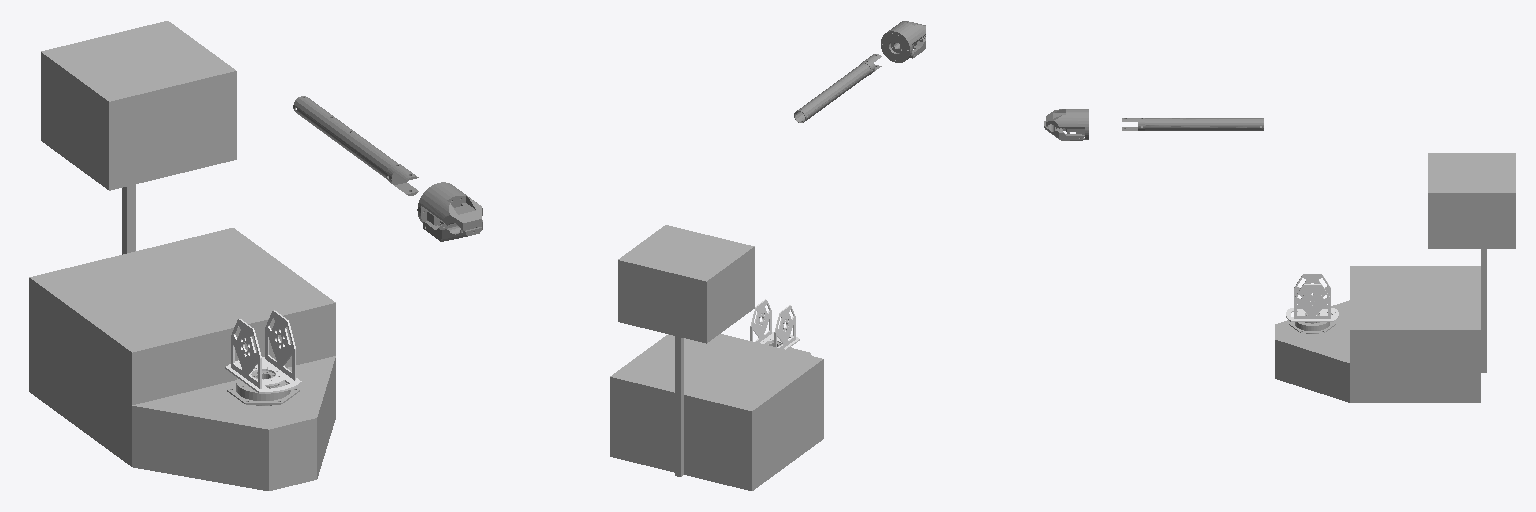
robot.urdf — urc23final_arm:
<?xml version="1.0" encoding="utf-8" ?>
<!-- This URDF was automatically created by SolidWorks to URDF Exporter! Originally created by [author] ([email redacted]) 
     Commit Version: 1.6.0-4-g7f85cfe  Build Version: 1.6.7995.38578
     For more information, please see http://wiki.ros.org/sw_urdf_exporter -->
<robot name="urc23final_arm">
    <link name="base_link">
        <inertial>
            <origin xyz="0.0603246661212797 0.217515542424428 0.127534424617061" rpy="0 0 0" />
            <mass value="79.0617361629743" />
            <inertia ixx="5.82614585947853" ixy="1.70560439059488E-16" ixz="-4.09098676431373E-16" iyy="4.66673961070968" iyz="-1.60173723183888" izz="3.60534040101563" />
        </inertial>
        <visual>
            <origin xyz="0 0 0" rpy="0 0 0" />
            <geometry>
                <mesh filename="package://urc23final_arm/meshes/base_link.STL" />
            </geometry>
            <material name="">
                <color rgba="0.752941176470588 0.752941176470588 0.752941176470588 1" />
            </material>
        </visual>
        <collision>
            <origin xyz="0 0 0" rpy="0 0 0" />
            <geometry>
                <mesh filename="package://urc23final_arm/meshes/base_link.STL" />
            </geometry>
        </collision>
    </link>
    <link name="base_rotation">
        <inertial>
            <origin xyz="-4.09394740330526E-15 0.0477688408231929 -0.00156120213569086" rpy="0 0 0" />
            <mass value="0.12637311705397" />
            <inertia ixx="0.000285010578626874" ixy="5.37348364974634E-22" ixz="-1.51854154192275E-20" iyy="0.000242437755857635" iyz="7.36564926068934E-14" izz="0.000138412184731081" />
        </inertial>
        <visual>
            <origin xyz="0 0 0" rpy="0 0 0" />
            <geometry>
                <mesh filename="package://urc23final_arm/meshes/base_rotation.STL" />
            </geometry>
            <material name="">
                <color rgba="0.96078431372549 0.96078431372549 0.964705882352941 1" />
            </material>
        </visual>
        <collision>
            <origin xyz="0 0 0" rpy="0 0 0" />
            <geometry>
                <mesh filename="package://urc23final_arm/meshes/base_rotation.STL" />
            </geometry>
        </collision>
    </link>
    <joint name="base_rotation_joint" type="revolute">
        <origin xyz="0.060325 -0.11137 0.093049" rpy="1.5708 0 0" />
        <parent link="base_link" />
        <child link="base_rotation" />
        <axis xyz="0 -1 0" />
        <limit lower="-1.57" upper="1.57" effort="20" velocity="1" />
    </joint>
    <link name="shoulder">
        <inertial>
            <origin xyz="1.36696209906972E-15 0.229734002557454 -0.0188983810765576" rpy="0 0 0" />
            <mass value="1.56729214697193" />
            <inertia ixx="0.0134535222438073" ixy="2.35924360277525E-16" ixz="-1.60404400799312E-17" iyy="0.00182033898741546" iyz="0.000702998589090253" izz="0.0124179951223639" />
        </inertial>
        <visual>
            <origin xyz="0 0 0" rpy="0 0 0" />
            <geometry>
                <mesh filename="package://urc23final_arm/meshes/shoulder.STL" />
            </geometry>
            <material name="">
                <color rgba="0.752941176470588 0.752941176470588 0.752941176470588 1" />
            </material>
        </visual>
        <collision>
            <origin xyz="0 0 0" rpy="0 0 0" />
            <geometry>
                <mesh filename="package://urc23final_arm/meshes/shoulder.STL" />
            </geometry>
        </collision>
    </link>
    <joint name="shoulder_rotation" type="revolute">
        <origin xyz="0 0.085 0" rpy="3.1416 0 3.1416" />
        <parent link="base_rotation" />
        <child link="shoulder" />
        <axis xyz="-1 0 0" />
        <limit lower="-1.57" upper="1.57" effort="20" velocity="1" />
    </joint>
    <link name="elbow">
        <inertial>
            <origin xyz="-9.22970098266029E-09 0.0535648381784446 0.000234961157169367" rpy="0 0 0" />
            <mass value="0.254176145162905" />
            <inertia ixx="0.000674443953170071" ixy="3.31994866744267E-11" ixz="3.01193310138557E-09" iyy="0.000207211717182606" iyz="1.29972885076442E-06" izz="0.000654879861706942" />
        </inertial>
        <visual>
            <origin xyz="0 0 0" rpy="0 0 0" />
            <geometry>
                <mesh filename="package://urc23final_arm/meshes/elbow.STL" />
            </geometry>
            <material name="">
                <color rgba="0.752941176470588 0.752941176470588 0.752941176470588 1" />
            </material>
        </visual>
        <collision>
            <origin xyz="0 0 0" rpy="0 0 0" />
            <geometry>
                <mesh filename="package://urc23final_arm/meshes/elbow.STL" />
            </geometry>
        </collision>
    </link>
    <joint name="elbow_rotation" type="revolute">
        <origin xyz="0 0.59743 -0.055422" rpy="-1.5708 0 0" />
        <parent link="shoulder" />
        <child link="elbow" />
        <axis xyz="-1 0 0" />
        <limit lower="-1.57" upper="1.57" effort="20" velocity="1" />
    </joint>
    <link name="elbow_link">
        <inertial>
            <origin xyz="0.244488163167704 -3.49133739002694E-08 -7.02941262975543E-08" rpy="0 0 0" />
            <mass value="0.119802792600848" />
            <inertia ixx="4.28029579106562E-05" ixy="-1.3695670601466E-10" ixz="-4.95481348866479E-11" iyy="0.00128323794233793" iyz="1.71267929875785E-10" izz="0.00127976361585783" />
        </inertial>
        <visual>
            <origin xyz="0 0 0" rpy="0 0 0" />
            <geometry>
                <mesh filename="package://urc23final_arm/meshes/elbow_link.STL" />
            </geometry>
            <material name="">
                <color rgba="0.627450980392157 0.627450980392157 0.627450980392157 1" />
            </material>
        </visual>
        <collision>
            <origin xyz="0 0 0" rpy="0 0 0" />
            <geometry>
                <mesh filename="package://urc23final_arm/meshes/elbow_link.STL" />
            </geometry>
        </collision>
    </link>
    <joint name="arm_rotation" type="revolute">
        <origin xyz="0 0.099935 0" rpy="0 0 1.5708" />
        <parent link="elbow" />
        <child link="elbow_link" />
        <axis xyz="-1 0 0" />
        <limit lower="-1.57" upper="1.57" effort="20" velocity="1" />
    </joint>
    <link name="gripper_truss">
        <inertial>
            <origin xyz="0.0865878951517725 -5.79459556671047E-07 0.0124024739381755" rpy="0 0 0" />
            <mass value="0.169393754164764" />
            <inertia ixx="0.000142042181232862" ixy="1.13117196478974E-10" ixz="-1.02101863730499E-07" iyy="9.89074307045755E-05" iyz="1.56559194275799E-09" izz="6.95333851382358E-05" />
        </inertial>
        <visual>
            <origin xyz="0 0 0" rpy="0 0 0" />
            <geometry>
                <mesh filename="package://urc23final_arm/meshes/gripper_truss.STL" />
            </geometry>
            <material name="">
                <color rgba="0.752941176470588 0.752941176470588 0.752941176470588 1" />
            </material>
        </visual>
        <collision>
            <origin xyz="0 0 0" rpy="0 0 0" />
            <geometry>
                <mesh filename="package://urc23final_arm/meshes/gripper_truss.STL" />
            </geometry>
        </collision>
    </link>
    <joint name="gripper_pitch" type="revolute">
        <origin xyz="0.443 0 0" rpy="1.5708 0 0" />
        <parent link="elbow_link" />
        <child link="gripper_truss" />
        <axis xyz="0 -1 0" />
        <limit lower="-1.57" upper="1.57" effort="20" velocity="1" />
    </joint>
    <link name="gripper">
        <inertial>
            <origin xyz="-0.0486941699774995 0.000202119278247585 -0.0132263797847579" rpy="0 0 0" />
            <mass value="0.458189452482593" />
            <inertia ixx="0.000461729648469846" ixy="-1.32210723277576E-06" ixz="-8.7077562672622E-05" iyy="0.000730350027632024" iyz="-3.90609771741417E-06" izz="0.000813105761945276" />
        </inertial>
        <visual>
            <origin xyz="0 0 0" rpy="0 0 0" />
            <geometry>
                <mesh filename="package://urc23final_arm/meshes/gripper.STL" />
            </geometry>
            <material name="">
                <color rgba="0.627450980392157 0.627450980392157 0.627450980392157 1" />
            </material>
        </visual>
        <collision>
            <origin xyz="0 0 0" rpy="0 0 0" />
            <geometry>
                <mesh filename="package://urc23final_arm/meshes/gripper.STL" />
            </geometry>
        </collision>
    </link>
    <joint name="gripper_rotation" type="revolute">
        <origin xyz="0.115 0 0" rpy="-1.5708 0 3.1416" />
        <parent link="gripper_truss" />
        <child link="gripper" />
        <axis xyz="-1 0 0" />
        <limit effort="20" velocity="1" />
    </joint>
    <link name="palm">
        <inertial>
            <origin xyz="0.00159163379721702 -0.0612260118797257 -0.00950239244098561" rpy="0 0 0" />
            <mass value="0.135791988160578" />
            <inertia ixx="9.34675406598337E-05" ixy="-4.72732461561749E-06" ixz="-1.69234792949761E-06" iyy="0.000130523988454061" iyz="-1.63940602410983E-05" izz="0.000198246106172532" />
        </inertial>
        <visual>
            <origin xyz="0 0 0" rpy="0 0 0" />
            <geometry>
                <mesh filename="package://urc23final_arm/meshes/palm.STL" />
            </geometry>
            <material name="">
                <color rgba="0.627450980392157 0.627450980392157 0.627450980392157 1" />
            </material>
        </visual>
        <collision>
            <origin xyz="0 0 0" rpy="0 0 0" />
            <geometry>
                <mesh filename="package://urc23final_arm/meshes/palm.STL" />
            </geometry>
        </collision>
    </link>
    <joint name="palm_joint" type="revolute">
        <origin xyz="-0.03015 0 0.0266" rpy="-0.013031 0 -1.5708" />
        <parent link="gripper" />
        <child link="palm" />
        <axis xyz="-1 0 0" />
        <limit lower="-1.57" upper="1.57" effort="20" velocity="1" />
    </joint>
    <transmission name="trans_base_rotation_joint">
        <type>transmission_interface/SimpleTransmission</type>
        <joint name="base_rotation_joint">
            <hardwareInterface>hardware_interface/EffortJointInterface</hardwareInterface>
        </joint>
        <actuator name="base_rotation_joint_motor">
            <hardwareInterface>hardware_interface/EffortJointInterface</hardwareInterface>
            <mechanicalReduction>1</mechanicalReduction>
        </actuator>
    </transmission>
    <transmission name="trans_shoulder_rotation">
        <type>transmission_interface/SimpleTransmission</type>
        <joint name="shoulder_rotation">
            <hardwareInterface>hardware_interface/EffortJointInterface</hardwareInterface>
        </joint>
        <actuator name="shoulder_rotation_motor">
            <hardwareInterface>hardware_interface/EffortJointInterface</hardwareInterface>
            <mechanicalReduction>1</mechanicalReduction>
        </actuator>
    </transmission>
    <transmission name="trans_elbow_rotation">
        <type>transmission_interface/SimpleTransmission</type>
        <joint name="elbow_rotation">
            <hardwareInterface>hardware_interface/EffortJointInterface</hardwareInterface>
        </joint>
        <actuator name="elbow_rotation_motor">
            <hardwareInterface>hardware_interface/EffortJointInterface</hardwareInterface>
            <mechanicalReduction>1</mechanicalReduction>
        </actuator>
    </transmission>
    <transmission name="trans_arm_rotation">
        <type>transmission_interface/SimpleTransmission</type>
        <joint name="arm_rotation">
            <hardwareInterface>hardware_interface/EffortJointInterface</hardwareInterface>
        </joint>
        <actuator name="arm_rotation_motor">
            <hardwareInterface>hardware_interface/EffortJointInterface</hardwareInterface>
            <mechanicalReduction>1</mechanicalReduction>
        </actuator>
    </transmission>
    <transmission name="trans_gripper_pitch">
        <type>transmission_interface/SimpleTransmission</type>
        <joint name="gripper_pitch">
            <hardwareInterface>hardware_interface/EffortJointInterface</hardwareInterface>
        </joint>
        <actuator name="gripper_pitch_motor">
            <hardwareInterface>hardware_interface/EffortJointInterface</hardwareInterface>
            <mechanicalReduction>1</mechanicalReduction>
        </actuator>
    </transmission>
    <transmission name="trans_gripper_rotation">
        <type>transmission_interface/SimpleTransmission</type>
        <joint name="gripper_rotation">
            <hardwareInterface>hardware_interface/EffortJointInterface</hardwareInterface>
        </joint>
        <actuator name="gripper_rotation_motor">
            <hardwareInterface>hardware_interface/EffortJointInterface</hardwareInterface>
            <mechanicalReduction>1</mechanicalReduction>
        </actuator>
    </transmission>
    <transmission name="trans_palm_joint">
        <type>transmission_interface/SimpleTransmission</type>
        <joint name="palm_joint">
            <hardwareInterface>hardware_interface/EffortJointInterface</hardwareInterface>
        </joint>
        <actuator name="palm_joint_motor">
            <hardwareInterface>hardware_interface/EffortJointInterface</hardwareInterface>
            <mechanicalReduction>1</mechanicalReduction>
        </actuator>
    </transmission>
    <gazebo>
        <plugin name="gazebo_ros_control">
            <robotNamespace>/</robotNamespace>
        </plugin>
    </gazebo>
</robot>

--- What the picture shows (computed from the rendered views, not written in the file) ---
The picture shows the robot from 3 angles, left to right: view 1: azimuth 30°, elevation 25°; view 2: azimuth 150°, elevation 25°; view 3: azimuth 270°, elevation 25°; orthographic projection.
Robot: urc23final_arm — 8 links, 7 joints (7 revolute); root link base_link; default pose: all joints at 0.
Visible links, largest first — view 1: base_link, base_rotation, elbow_link, gripper, palm; view 2: base_link, base_rotation, elbow_link, gripper; view 3: base_link, elbow_link, base_rotation, gripper.
Link boxes in pixels (box(x1,y1,x2,y2)): base_link: box(29, 21, 335, 490); base_rotation: box(225, 310, 301, 393); elbow_link: box(293, 96, 418, 195); gripper: box(417, 182, 482, 230); palm: box(423, 220, 482, 241); base_link: box(610, 225, 823, 490); base_rotation: box(750, 299, 799, 349); elbow_link: box(794, 54, 881, 122); gripper: box(881, 21, 925, 62); base_link: box(1275, 153, 1515, 402); elbow_link: box(1122, 118, 1263, 130); base_rotation: box(1286, 274, 1338, 321); gripper: box(1046, 109, 1088, 139).
Bounding box of the posed robot: 0.48 × 1.51 × 0.92 m (x, y, z).
5 mesh visuals loaded from 8 distinct referenced files (5 binary STL); not drawn: 3 (reference not matched to a file when rendering).